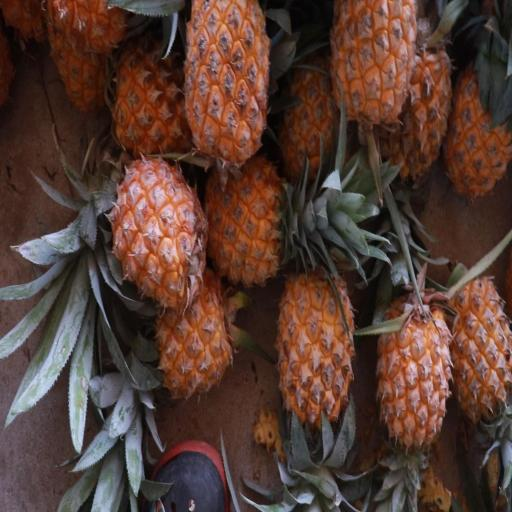Pineapple - v8 v1: (101, 149, 212, 313), (274, 251, 358, 462), (198, 142, 308, 289), (180, 1, 274, 169), (372, 289, 454, 473), (378, 14, 456, 186), (442, 11, 510, 208), (152, 260, 238, 410), (327, 0, 421, 134), (443, 264, 512, 444)
